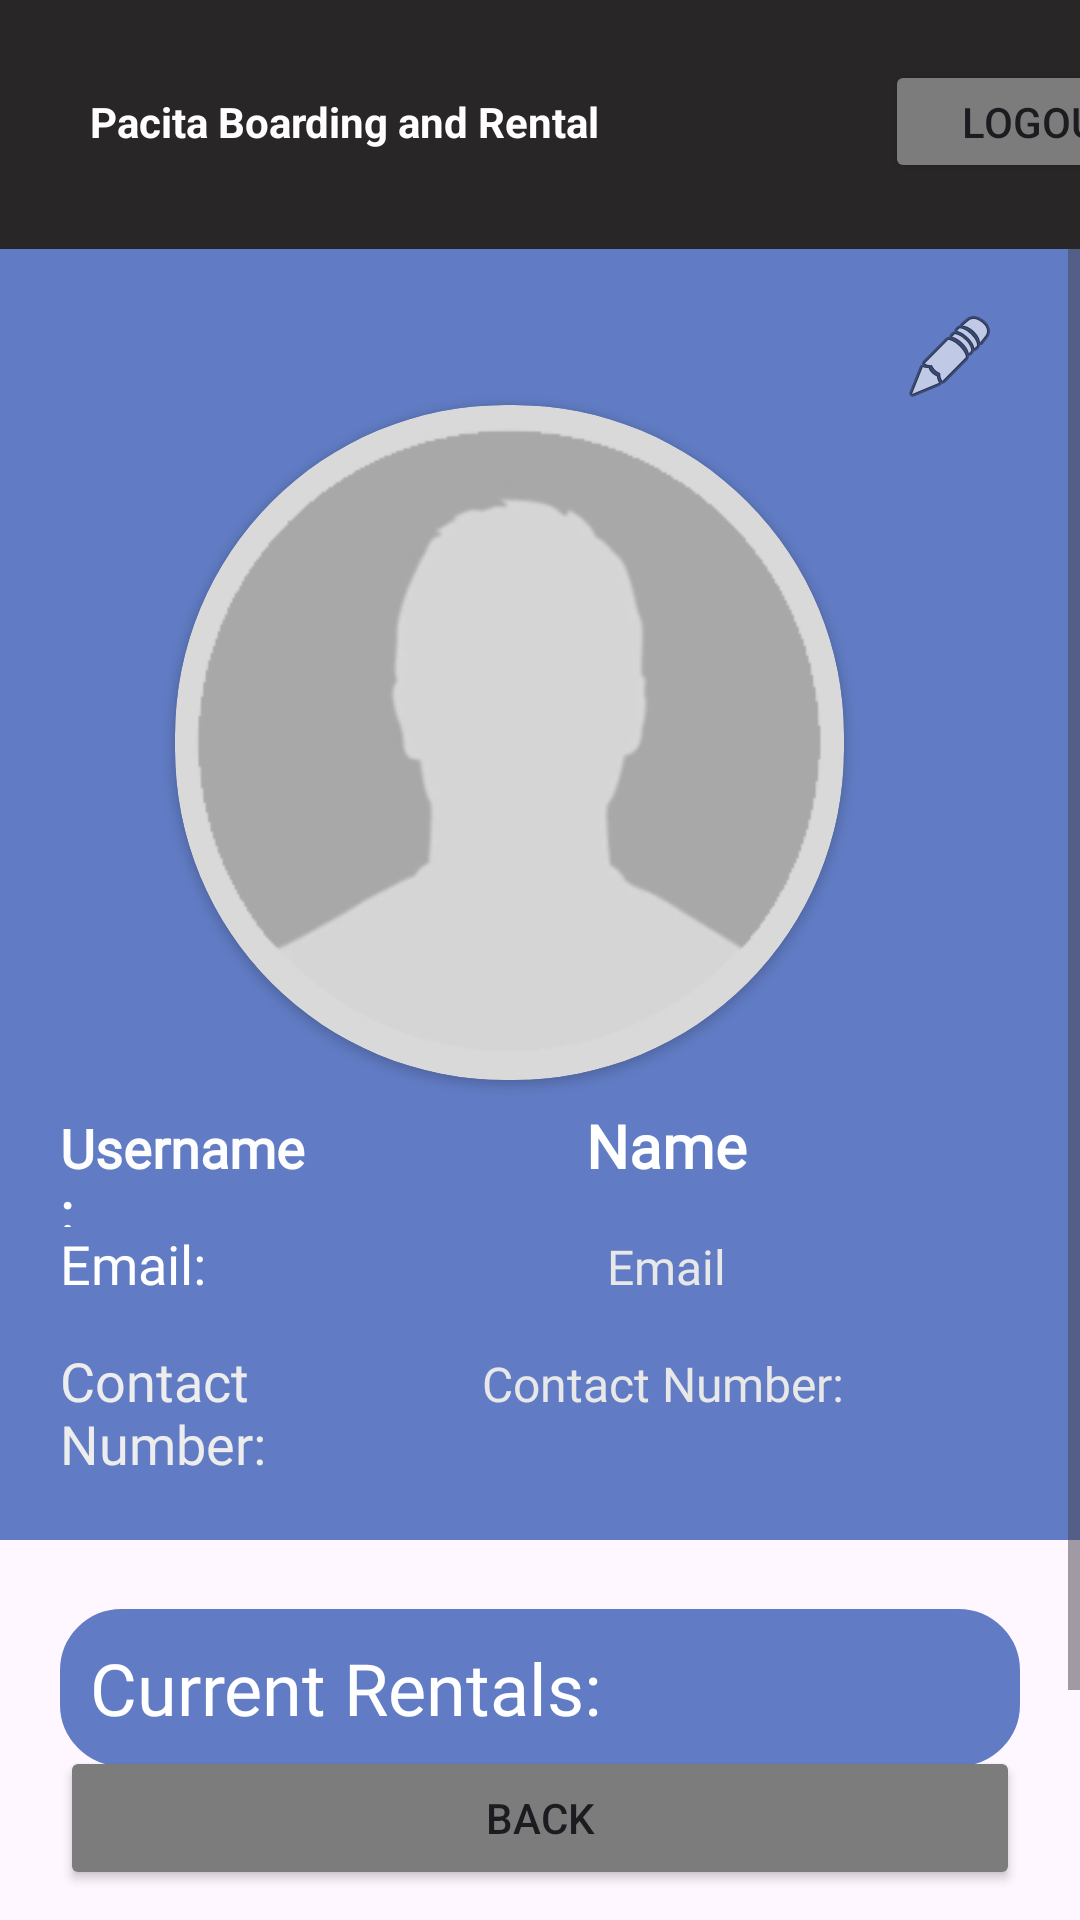

Where to tap for icons on this 1080 × 1920 app screen, as [x,y]:
edit: [949,356]
